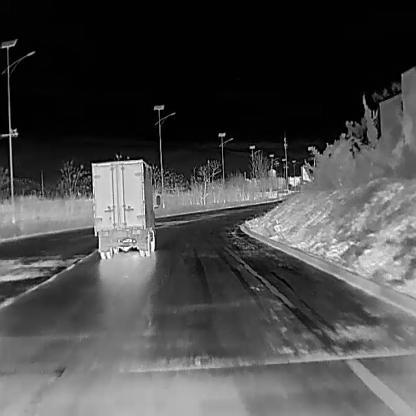car: (91, 158, 161, 258)
